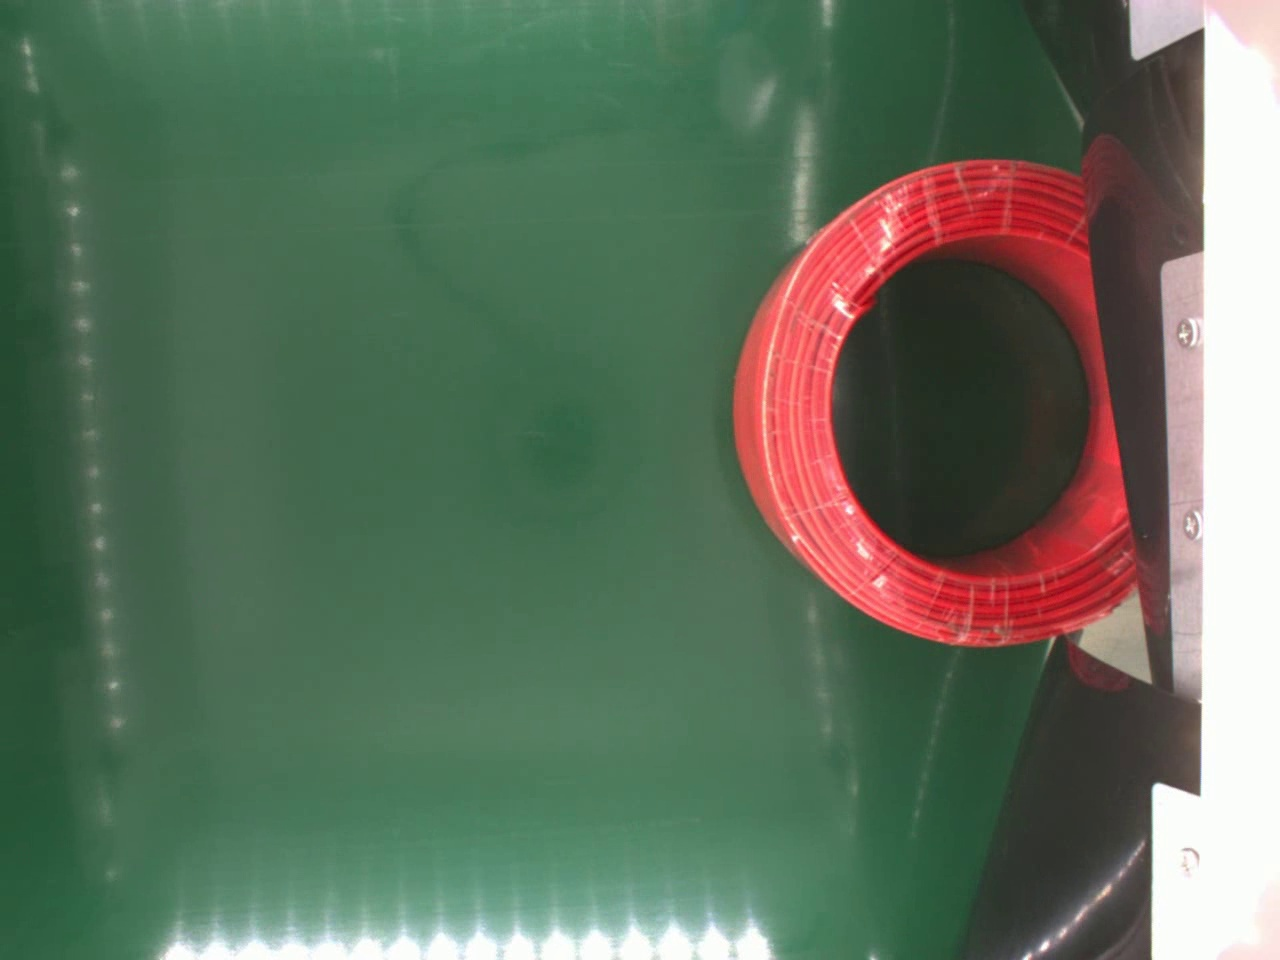red: (727, 155, 1137, 644)
